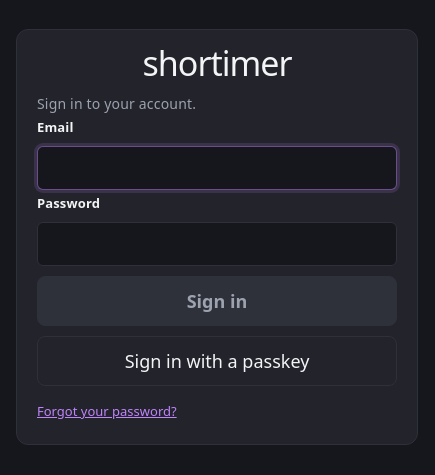
Test case: signing in › shows why a sign-in was refused
This screenshot has width=435, height=475.
Type "athlete@example.com" into the field labelled "Email" at (217, 168), box [37,146,397,190]
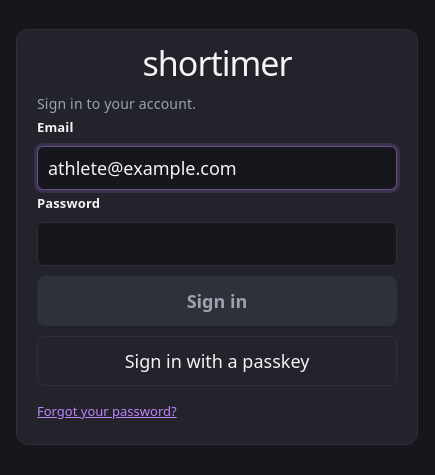
Type "wrong-password" into the password field labelled "Password" at (217, 244), box [37,222,397,266]
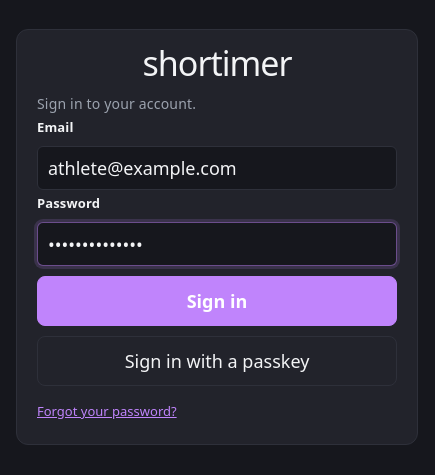
Click the button "Sign in" at (217, 301), box [37,276,397,326]
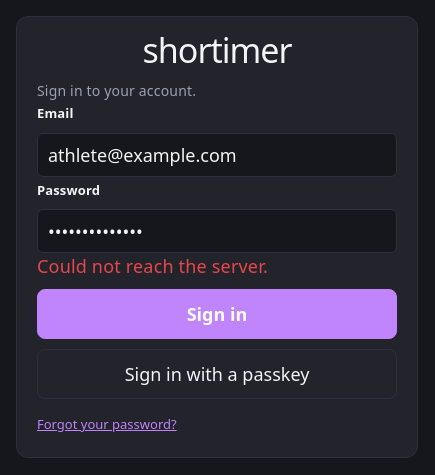
Now the text "Could not reach the server." is shown, box [37,254,268,278]
